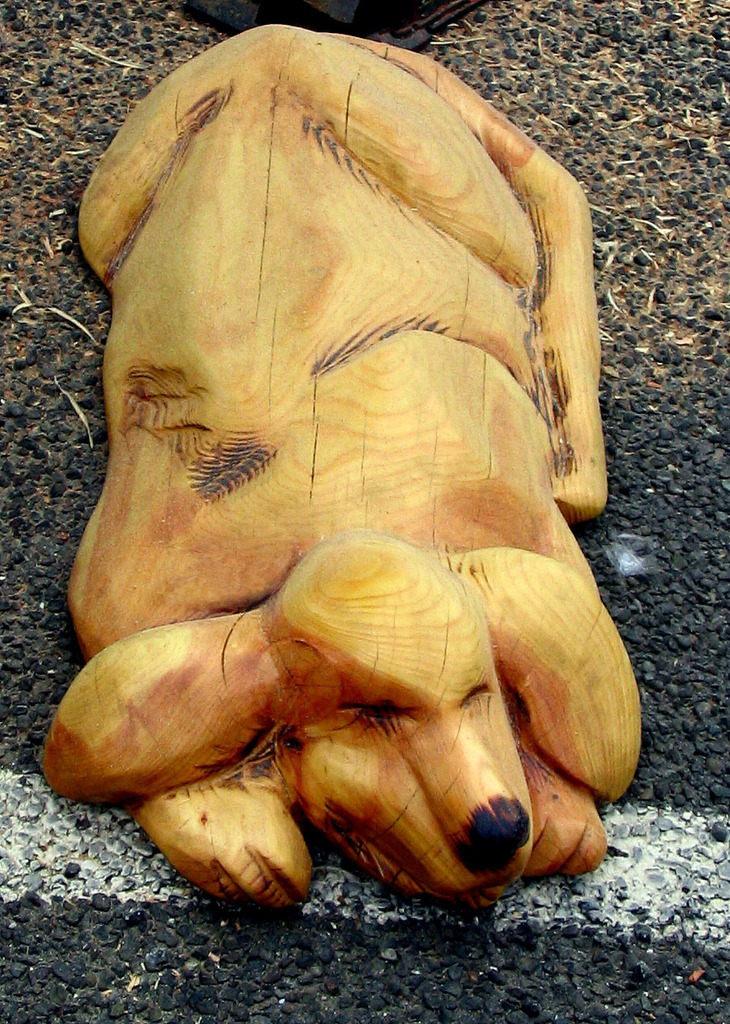Animal: (36, 20, 645, 917)
